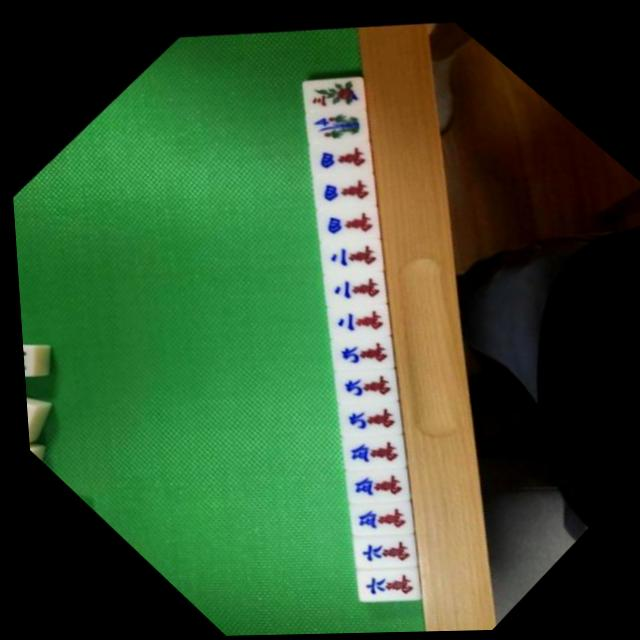bf4: (291, 78, 381, 166)
bs3: (287, 44, 380, 135)
sc2: (308, 274, 401, 365), (302, 208, 395, 298), (307, 243, 398, 330)
sc4: (297, 144, 387, 231), (301, 178, 390, 264), (296, 113, 383, 198)
sc5: (321, 406, 415, 496), (324, 440, 418, 530), (328, 473, 421, 563)
sc6: (335, 541, 429, 632), (333, 509, 424, 597)
sc9: (315, 340, 408, 431), (319, 375, 410, 462), (313, 308, 403, 395)
